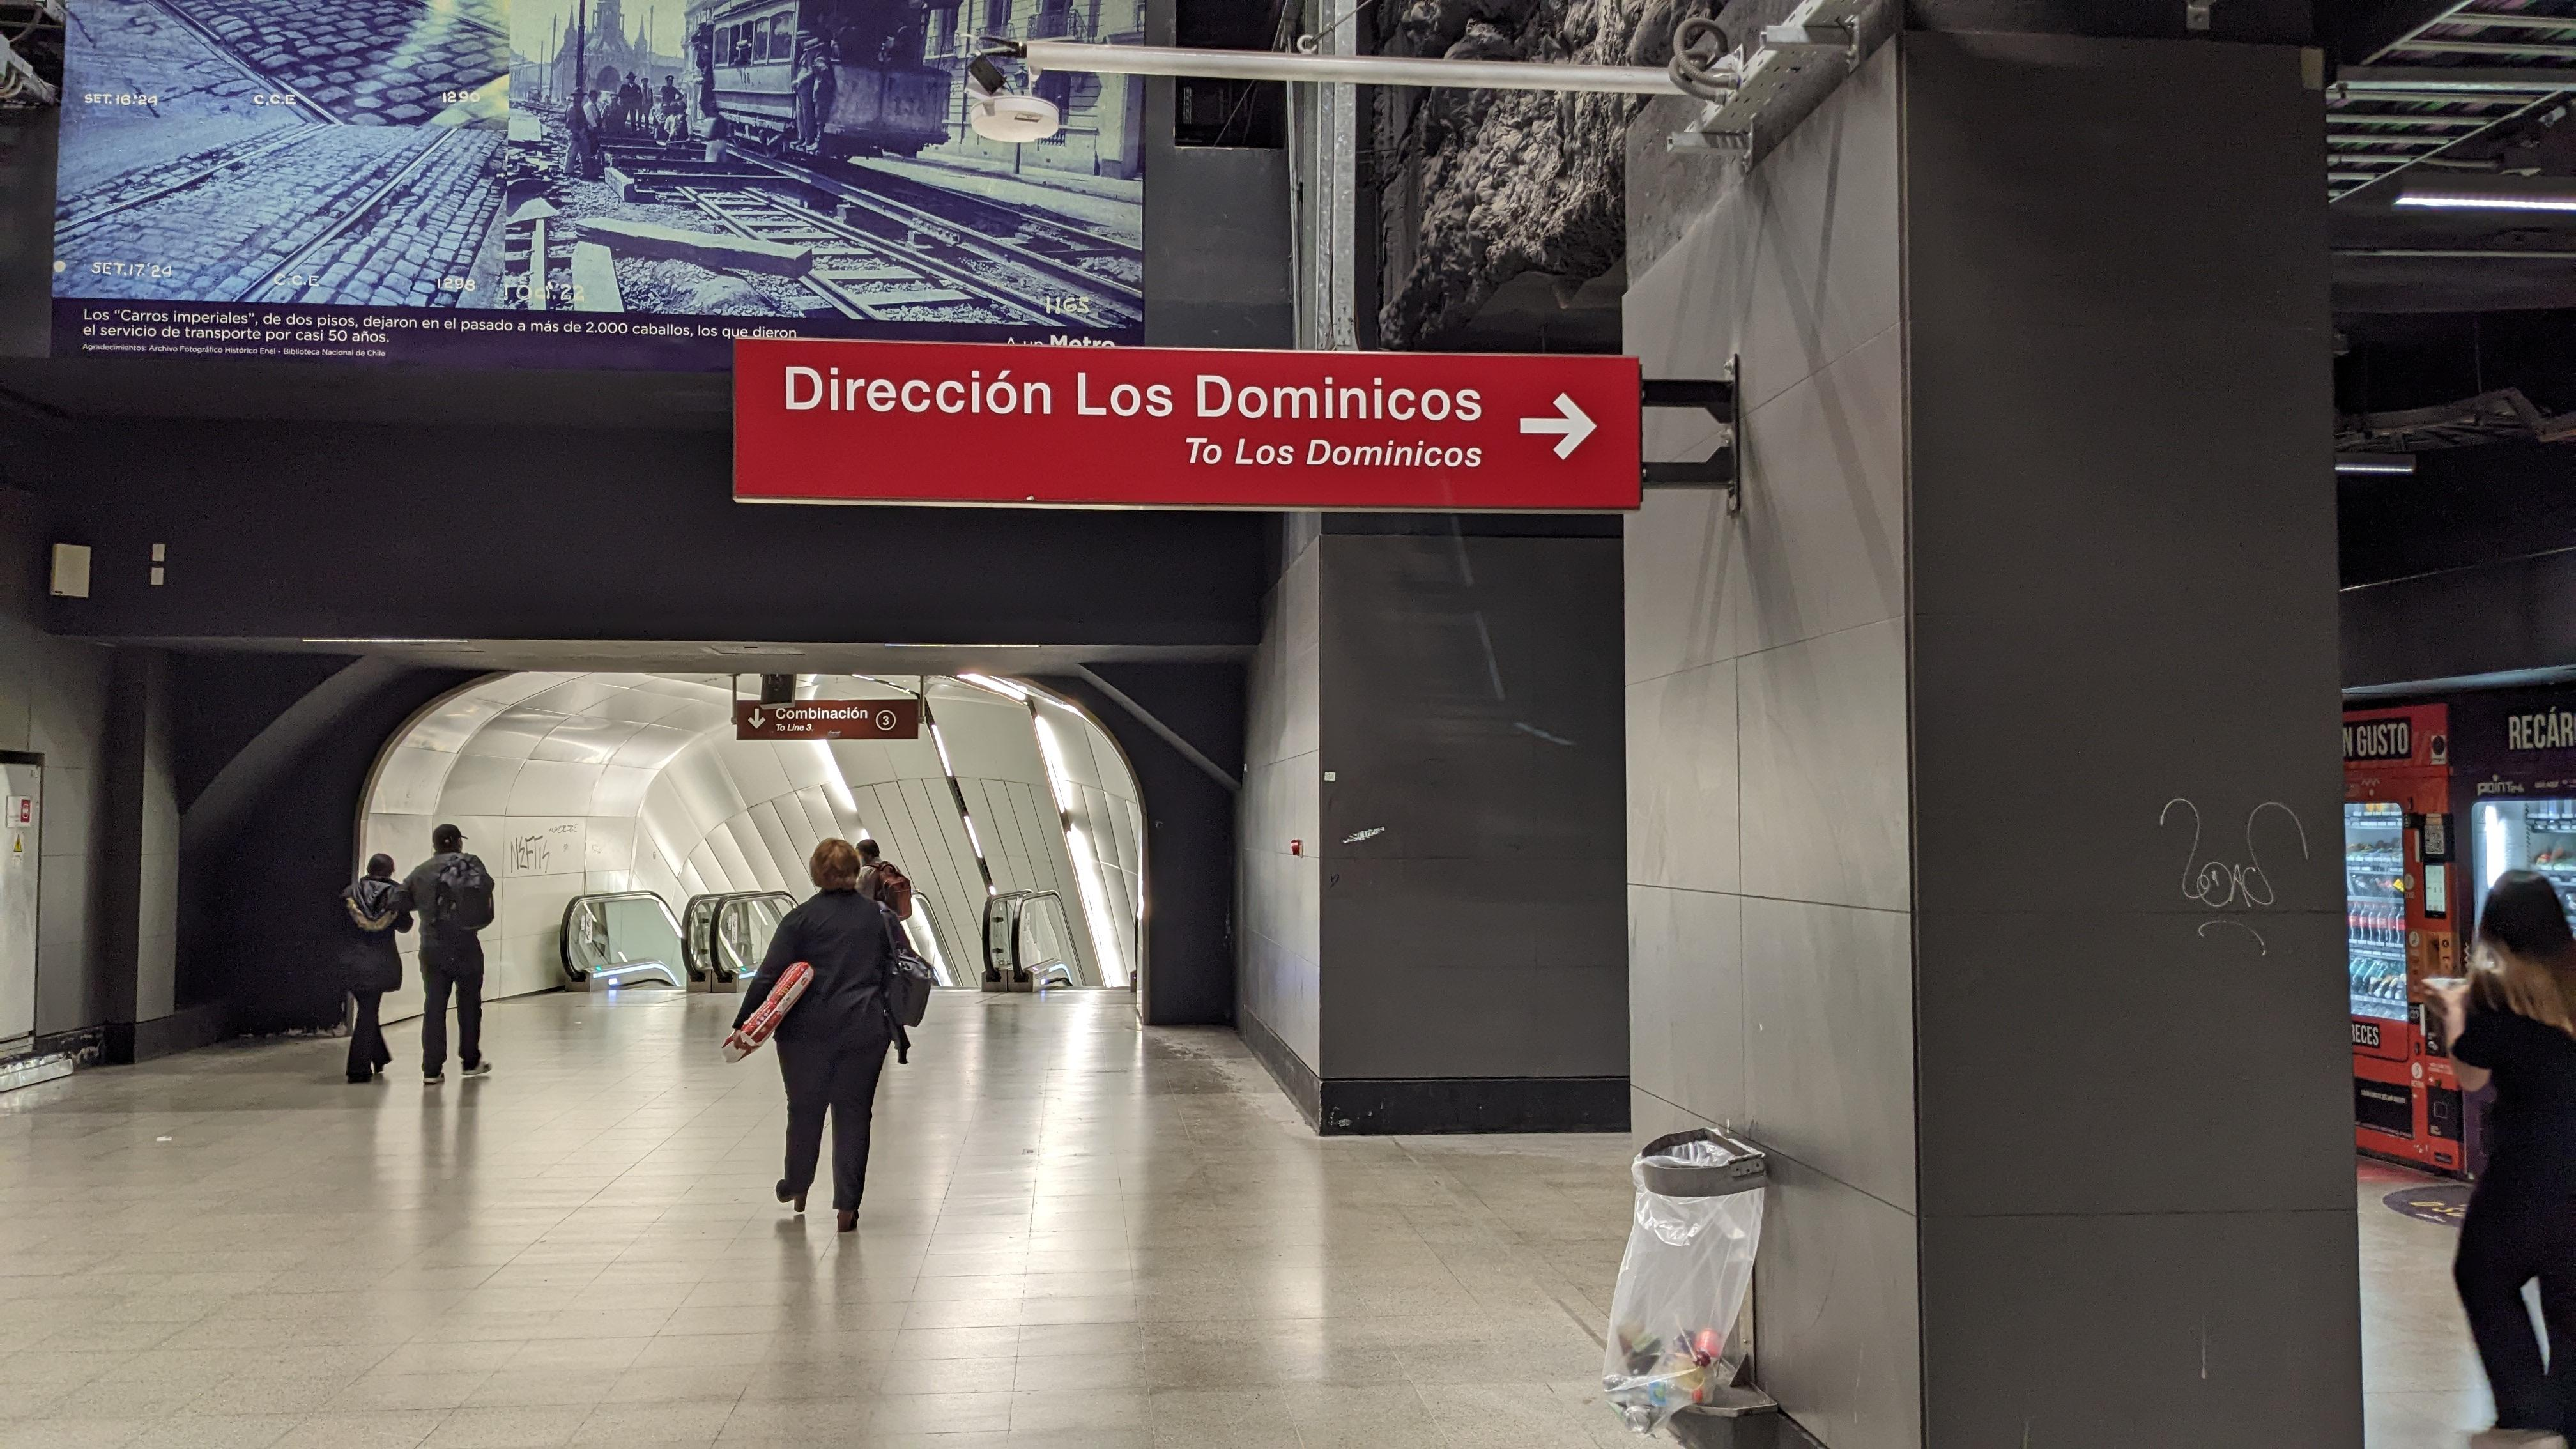down arrow: (747, 708, 768, 729)
right arrow: (1514, 389, 1599, 462)
